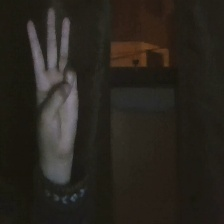W: (18, 1, 87, 165)
